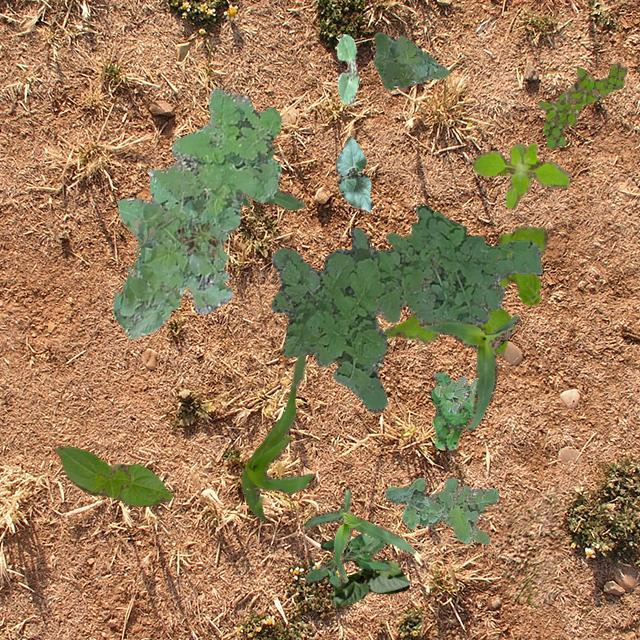crop: (240, 354, 312, 520), (418, 314, 518, 431), (302, 488, 414, 582), (54, 444, 172, 506), (240, 144, 304, 208), (329, 558, 408, 606), (334, 136, 372, 212), (336, 32, 358, 104)
weed: (270, 205, 542, 412), (112, 85, 280, 338), (382, 226, 548, 354), (384, 476, 498, 544), (538, 61, 626, 148), (472, 142, 568, 208), (304, 532, 390, 586), (372, 32, 448, 88), (428, 370, 472, 450), (175, 220, 218, 258), (434, 374, 476, 412)
